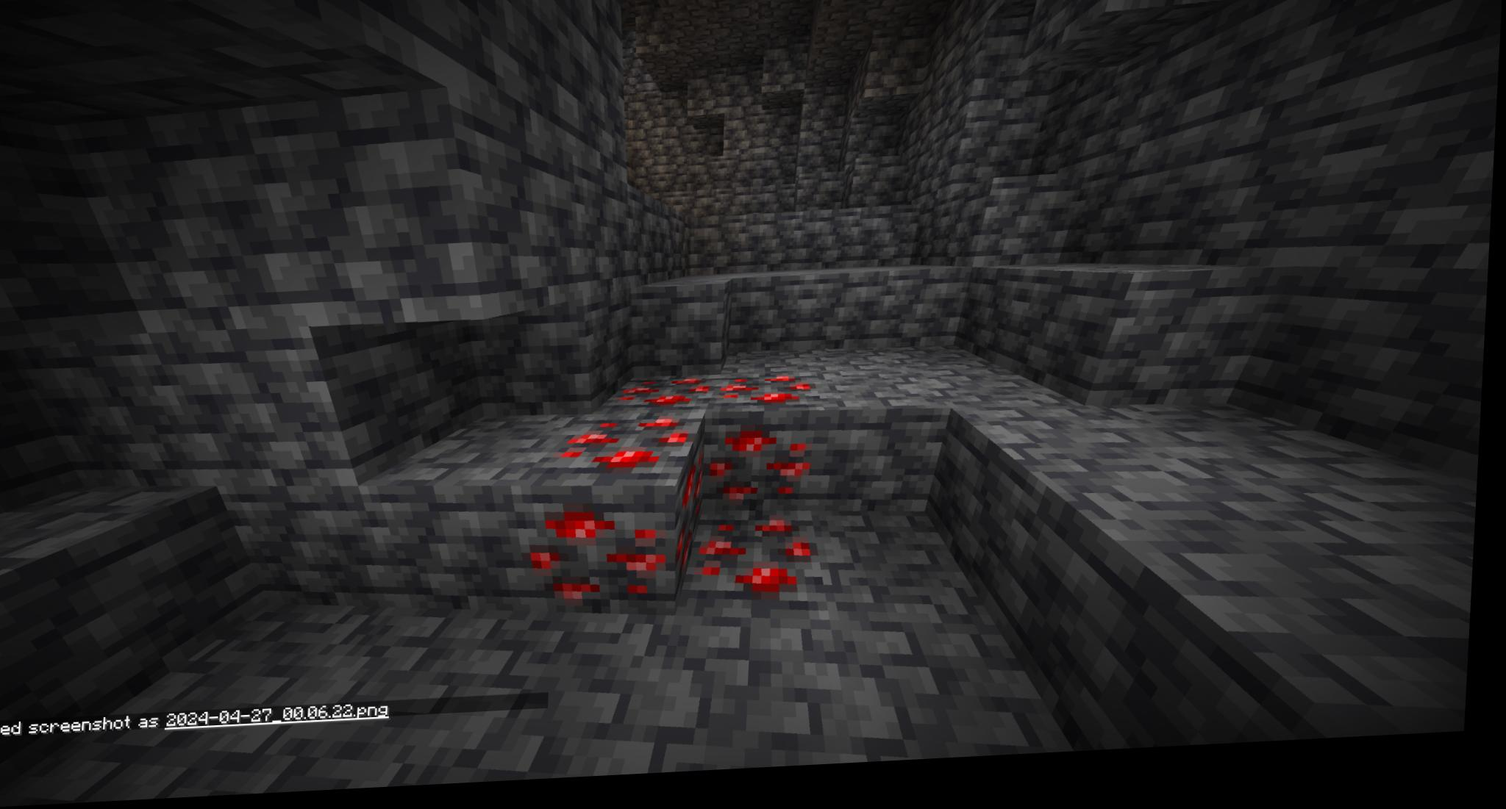redstone ore: (531, 509, 679, 619), (704, 519, 822, 614), (718, 424, 822, 519), (572, 419, 692, 489), (623, 381, 711, 426), (721, 379, 817, 420)
